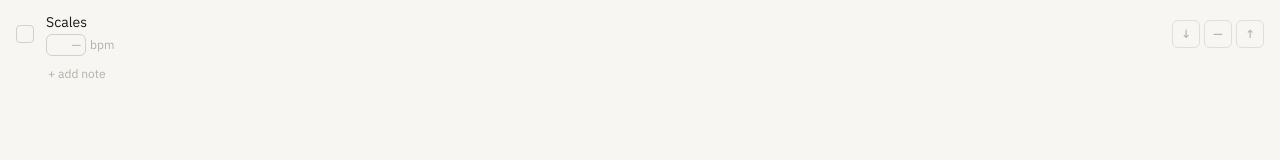
Test: voice input in the active session › dictates into a per-block note
What coordinates should you click on to do the following:
click the button "+ add note"
I would click on:
 (77, 74)
Its box is [48,66,106,82].
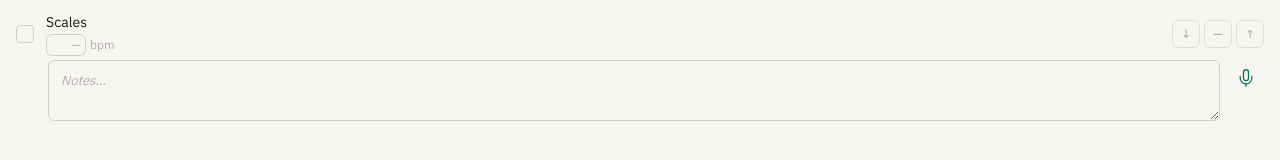
What coordinates should you click on to do the following:
click the button named "Dictate notes for Scales"
I would click on:
 (1246, 78)
Its box is [1228,60,1264,96].
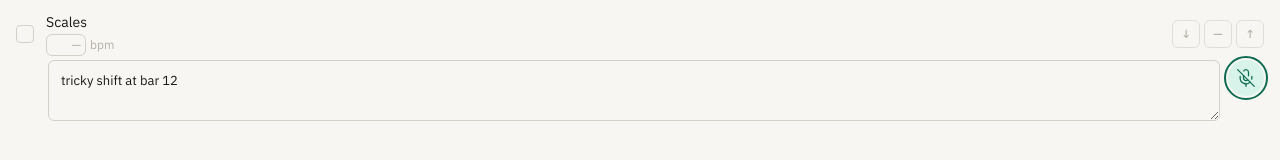
Check: the text box with placeholder "Notes..." holds "tricky shift at bar 12", box [48,60,1220,121]
